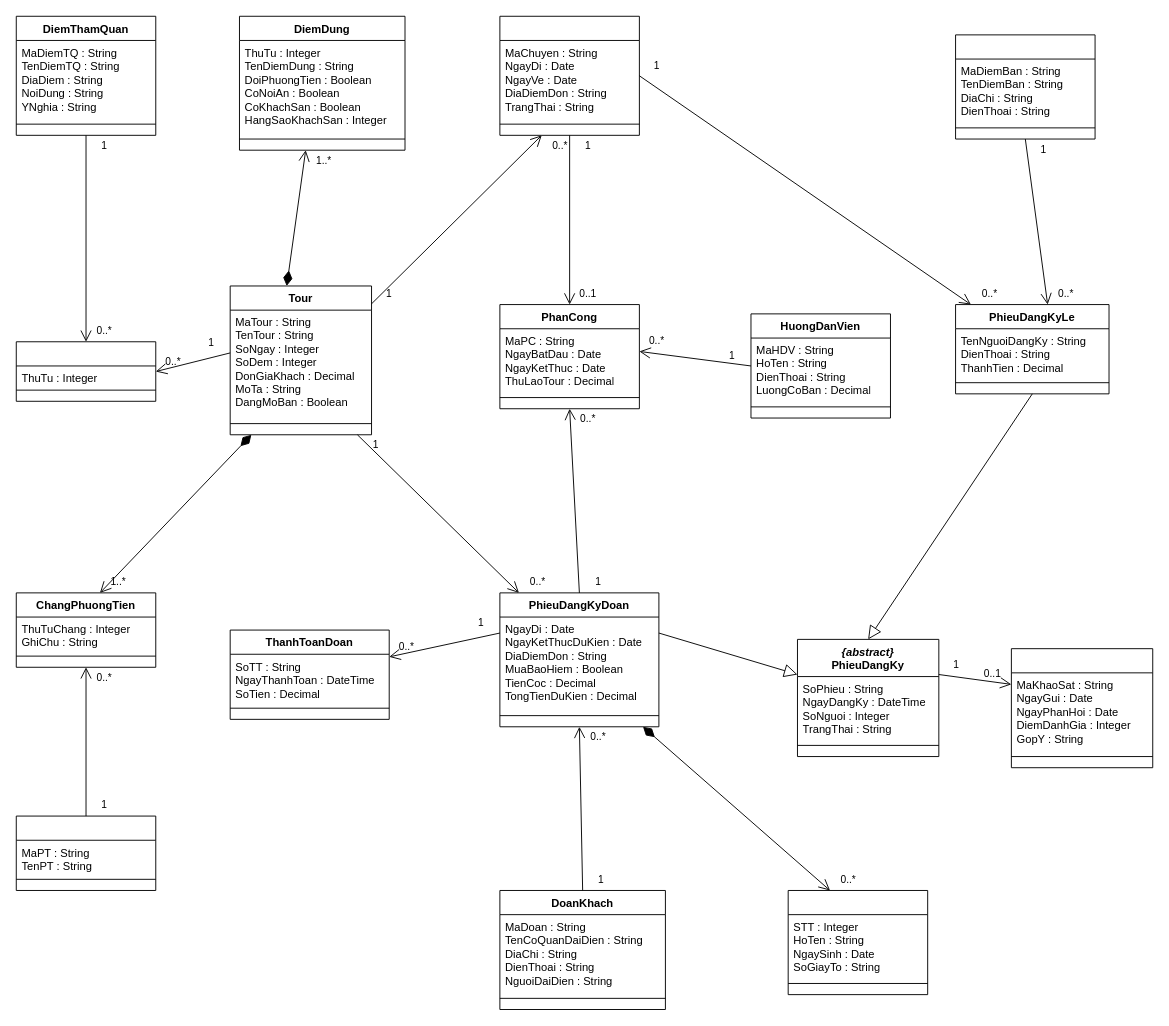
Some shapes in this 1169 by 1026 pixel diagram are drawn without their labels. The box of each missing label's shape, as (x1, y1, x2, y2) in pixels:
ChuyenLe: (499, 15, 639, 135)
DiemBanVe: (955, 34, 1095, 139)
PhieuKhaoSat: (1010, 648, 1153, 768)
PhuongTien: (15, 815, 156, 890)
ThanhVienDoan: (787, 890, 928, 995)
TourDiemThamQuan: (15, 341, 156, 401)
